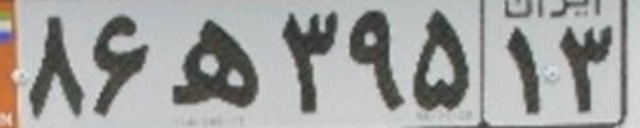1: (504, 27, 544, 114)
3: (278, 12, 341, 113), (559, 23, 611, 112)
5: (411, 7, 472, 110)
6: (86, 14, 148, 117)
8: (24, 14, 84, 118)
9: (345, 8, 405, 110)
he: (163, 17, 267, 109)
